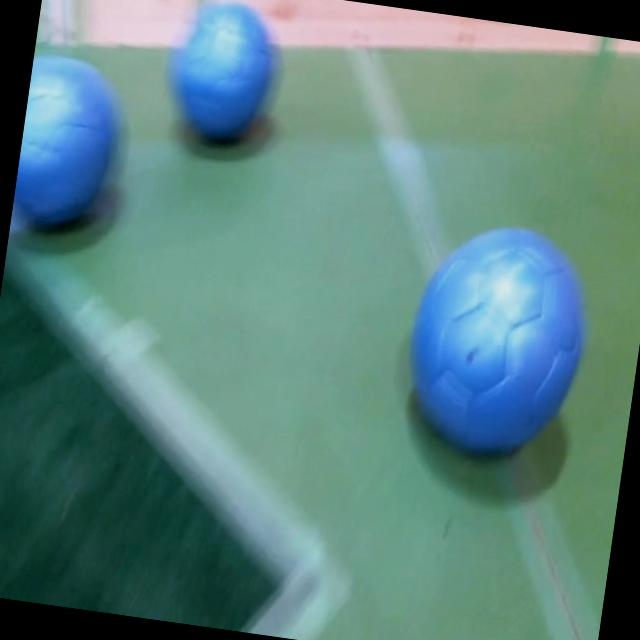blue_ball: (397, 218, 600, 472), (10, 57, 124, 236), (163, 0, 280, 149)
